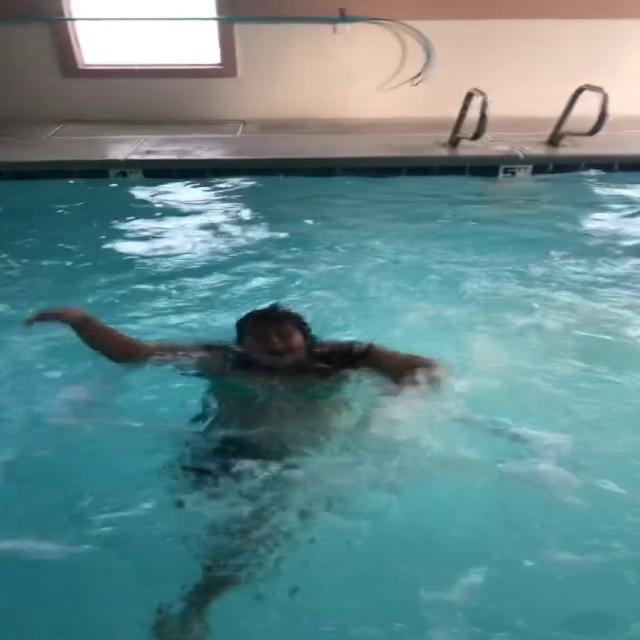Drowning: (32, 298, 443, 626)
